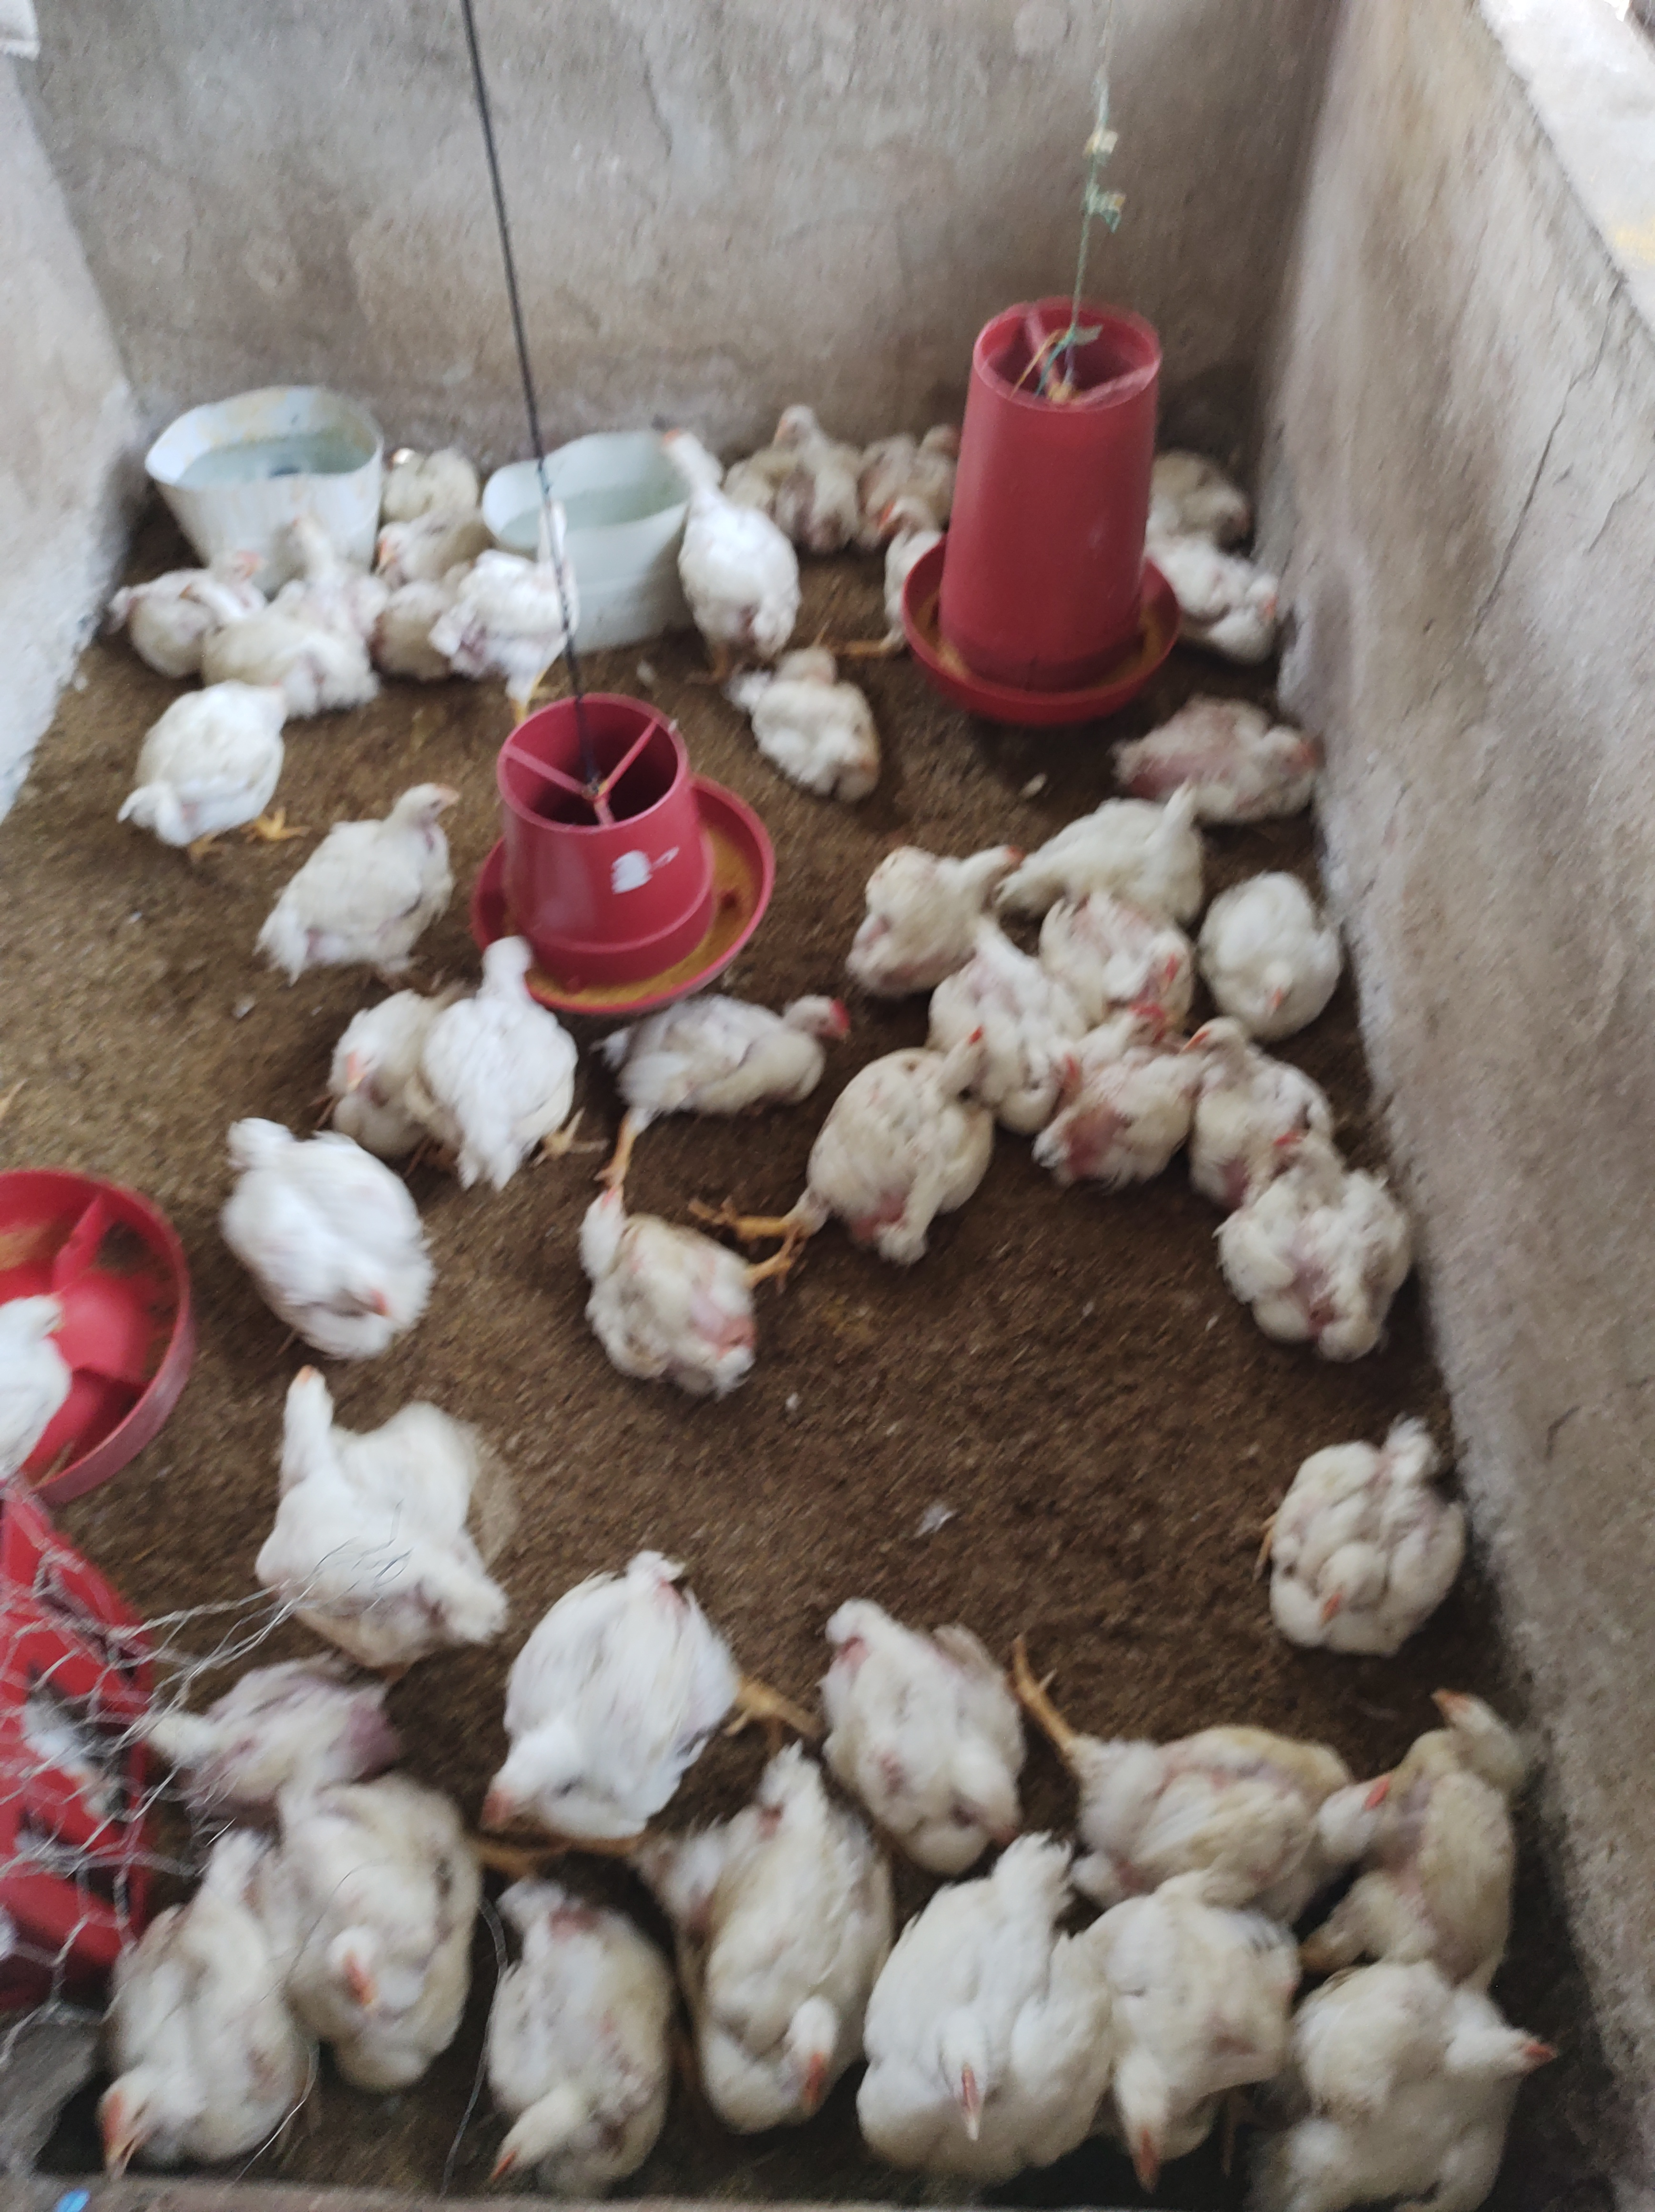Pollos: (38, 1878, 306, 2195), (476, 1563, 777, 1843), (249, 1363, 530, 1656), (866, 1831, 1092, 2179), (1234, 1388, 1507, 1650), (784, 1570, 1048, 1829), (678, 1795, 880, 2132), (1083, 1883, 1313, 2175), (1339, 1687, 1598, 1942), (473, 1869, 678, 2189), (170, 1113, 454, 1344), (1302, 1955, 1554, 2212), (1052, 1690, 1382, 1873), (784, 1019, 1008, 1287), (276, 1786, 473, 2080), (1213, 1120, 1436, 1372), (595, 967, 848, 1149), (101, 1640, 382, 1798), (563, 1188, 763, 1396), (643, 407, 793, 664), (285, 774, 473, 962), (116, 680, 289, 878), (1206, 838, 1368, 1033), (0, 1261, 120, 1513), (454, 930, 582, 1143), (1184, 986, 1337, 1163), (1034, 753, 1234, 885), (946, 915, 1093, 1092), (1120, 680, 1337, 800), (7, 1642, 129, 1856), (462, 489, 579, 678), (840, 838, 1034, 948), (760, 664, 901, 809), (106, 536, 268, 661), (269, 522, 377, 704), (1066, 1064, 1205, 1200), (763, 386, 859, 550), (869, 492, 953, 638), (1187, 553, 1302, 659), (1151, 456, 1266, 550), (322, 991, 405, 1092), (878, 409, 963, 489), (372, 442, 454, 518), (1125, 915, 1205, 984), (1111, 991, 1168, 1061), (362, 511, 414, 579)
